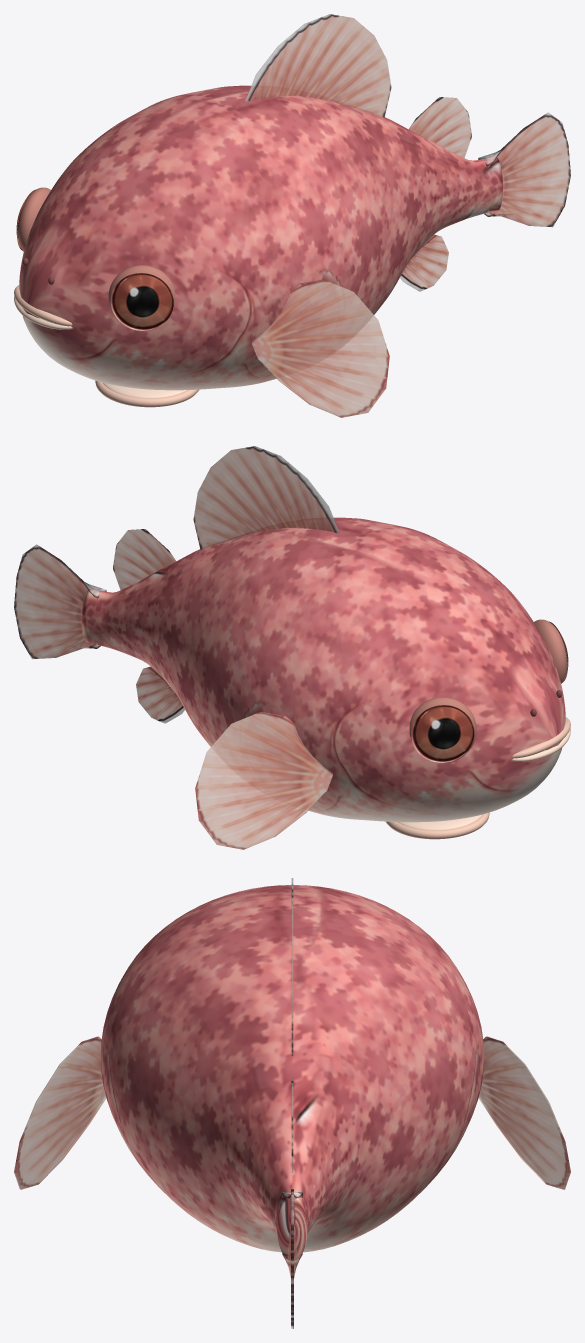
File: dangouo-pink.glb
The picture shows the model from 3 angles, top to bottom: view 1: azimuth 30°, elevation 25°; view 2: azimuth 150°, elevation 25°; view 3: azimuth 270°, elevation 25°; orthographic projection. The views are drawn at different scales.
Visible parts, largest first — view 1: Body_continuous_skin, Pectoral_right, Dorsal_1, Caudal, Eye_iris_1, Dorsal_2, Anal, Pelvic_disc_rim, Eye_globe_-1, Eye_globe_1, Pelvic_disc_dish, Mouth_upper; view 2: Body_continuous_skin, Pectoral_left, Dorsal_1, Caudal, Eye_iris_-1, Dorsal_2, Anal, Pelvic_disc_rim, Eye_globe_1, Eye_globe_-1, Pelvic_disc_dish, Mouth_upper; view 3: Body_continuous_skin, Pectoral_left, Pectoral_right, Caudal.
Part boxes in pixels (x1,y1,x2,y2): Body_continuous_skin: [19, 85, 502, 390]; Pectoral_right: [252, 279, 389, 417]; Dorsal_1: [245, 14, 391, 117]; Caudal: [478, 112, 570, 227]; Eye_iris_1: [110, 273, 173, 330]; Dorsal_2: [408, 97, 471, 158]; Anal: [400, 234, 448, 291]; Pelvic_disc_rim: [95, 380, 198, 407]; Eye_globe_-1: [18, 187, 50, 251]; Eye_globe_1: [108, 265, 175, 331]; Pelvic_disc_dish: [103, 382, 186, 398]; Mouth_upper: [14, 285, 72, 326]; Body_continuous_skin: [82, 517, 565, 822]; Pectoral_left: [195, 711, 332, 849]; Dorsal_1: [193, 446, 339, 549]; Caudal: [14, 544, 106, 659]; Eye_iris_-1: [411, 705, 474, 762]; Dorsal_2: [113, 529, 176, 590]; Anal: [136, 666, 184, 723]; Pelvic_disc_rim: [386, 812, 489, 839]; Eye_globe_1: [534, 619, 566, 683]; Eye_globe_-1: [409, 697, 476, 763]; Pelvic_disc_dish: [398, 814, 481, 830]; Mouth_upper: [512, 717, 570, 758]; Body_continuous_skin: [100, 885, 484, 1260]; Pectoral_left: [478, 1036, 570, 1189]; Pectoral_right: [14, 1036, 106, 1189]; Caudal: [282, 1189, 302, 1328].
Size of the model in its own units: 0.0297 by 0.0171 by 0.0224.
Materials: 2 (2 with a texture image).
